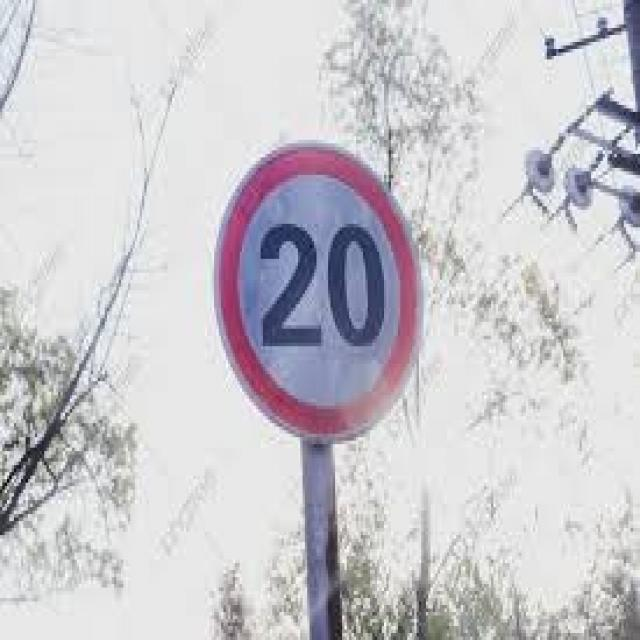speed_limit_20: (202, 128, 436, 447)
